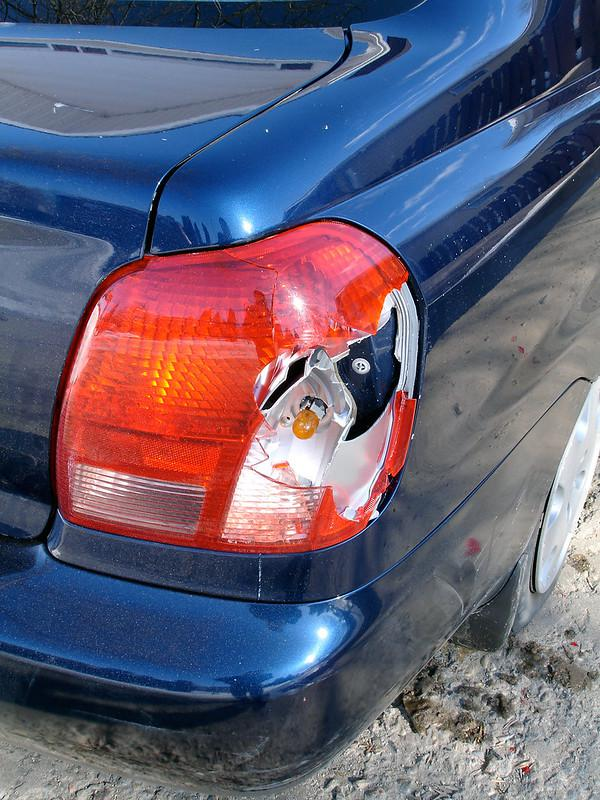Taillight-Damage: (79, 208, 449, 614)
